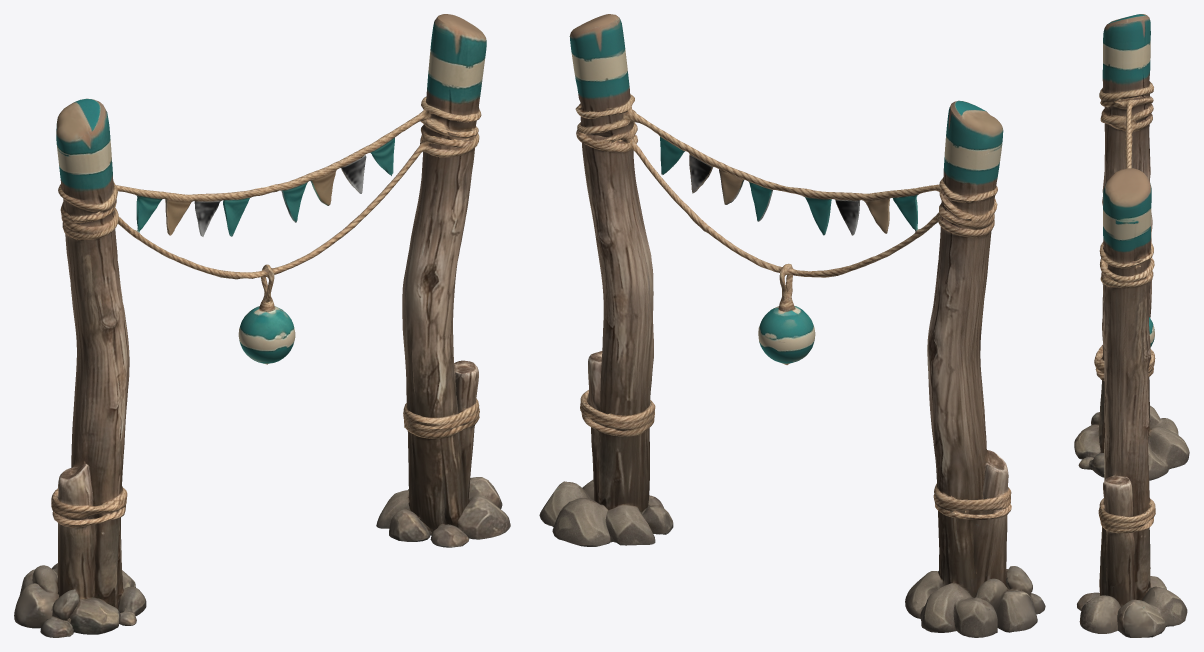
File: tidewake_channel_marker_arch.glb
3 views of the same model, side by side, from view 1: azimuth 30°, elevation 25°; view 2: azimuth 150°, elevation 25°; view 3: azimuth 270°, elevation 25° (orthographic). The views are drawn at different scales.
Parts seen in each view (by area): view 1: Mesh_0; view 2: Mesh_0; view 3: Mesh_0.
Boxes of the visible parts, x1=… form: Mesh_0: x1=14, y1=14, x2=510, y2=637; Mesh_0: x1=539, y1=14, x2=1045, y2=637; Mesh_0: x1=1074, y1=14, x2=1189, y2=637.
Size of the model in its own units: 6 by 5.97 by 1.4.
Materials: 1 (1 with a texture image).
